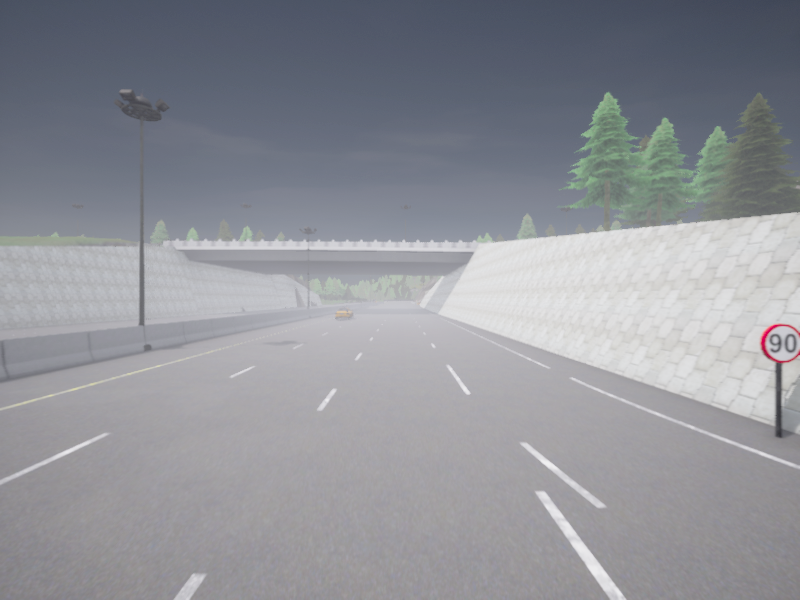vehicle: (335, 306, 353, 318)
